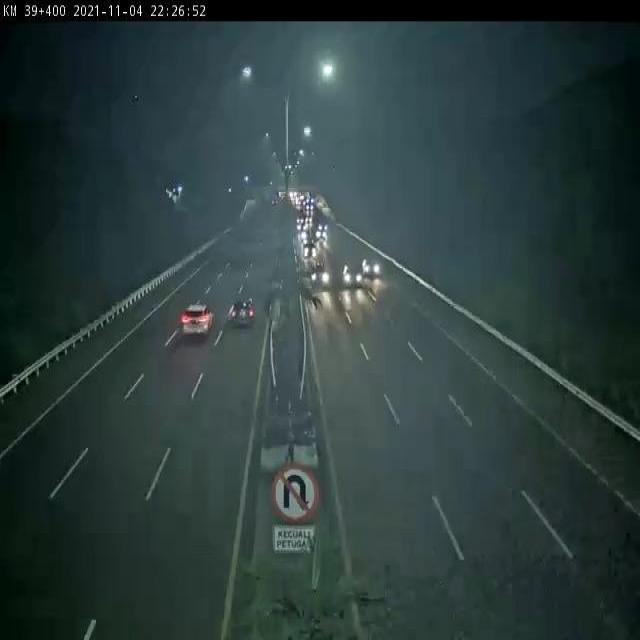car: (180, 305, 216, 339), (230, 299, 255, 329)
